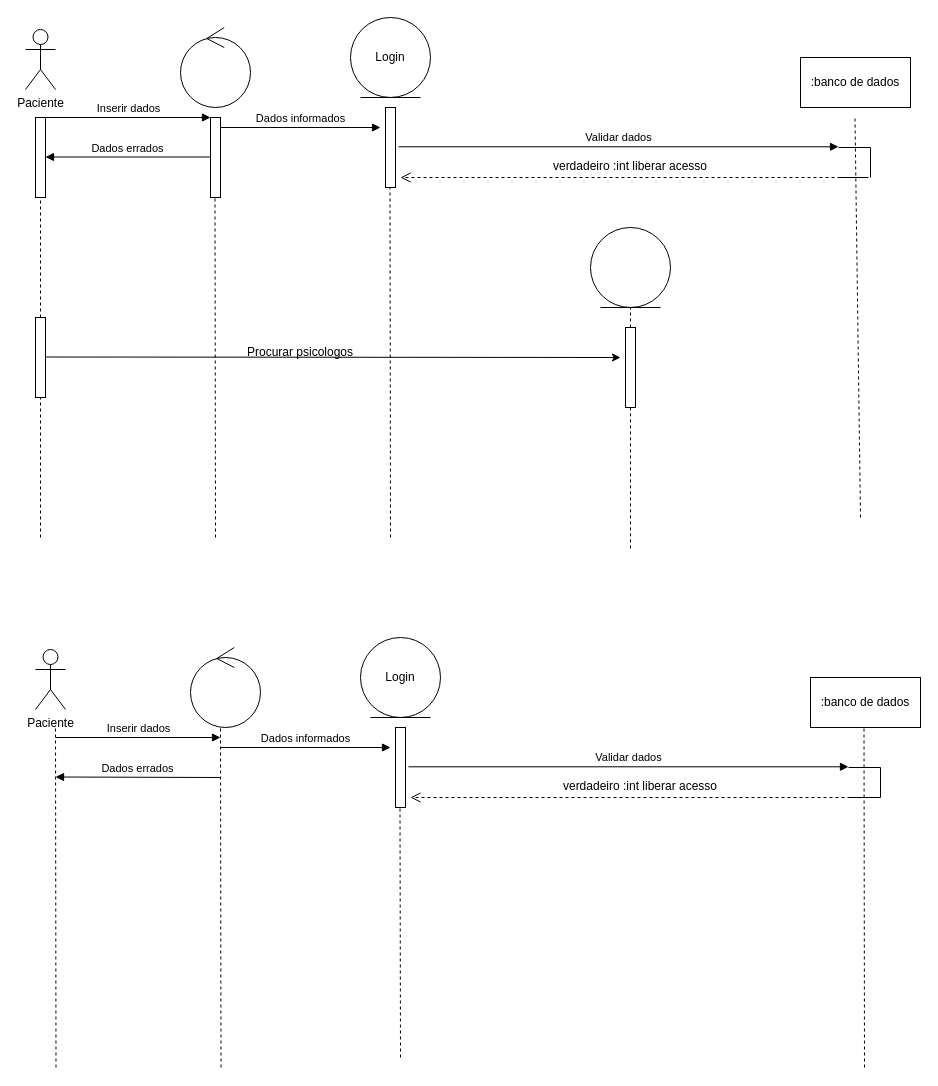
This 938x1086 diagram has some shape labels left out. The centre of each missing label's shape, as x and y in pixels:
Agendamento: the point at 630,267
Verificar CPF: the point at 215,67
Verificar CRP: the point at 225,687
